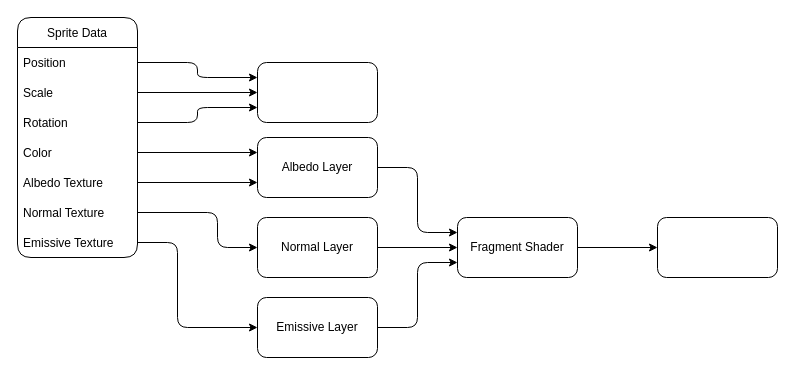
Some shapes in this 795 by 375 pixel diagram are drawn without their labels. The shapes that lost their labels are listed below. From the top down, each one's centre as x and y in pixels, then its label:
point 317,92: Vertex Shader
point 717,247: Completed Frame
